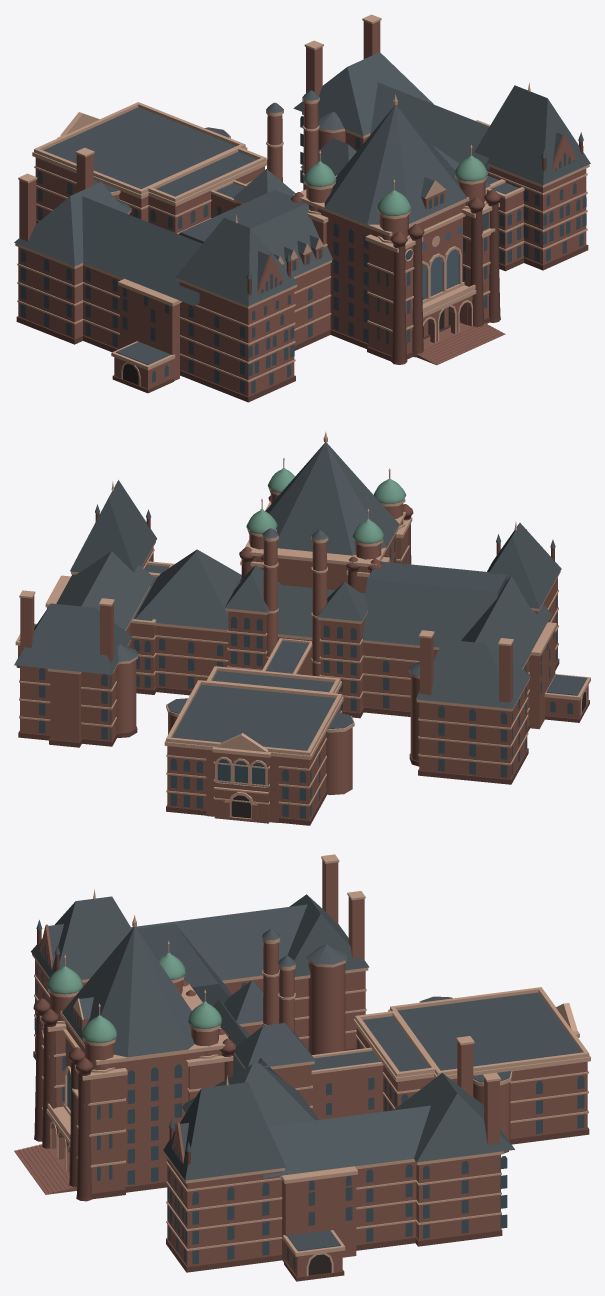
File: ontario-legislative-building-far.glb
3 renders of one model, top to bottom at view 1: azimuth 30°, elevation 25°; view 2: azimuth 150°, elevation 25°; view 3: azimuth 270°, elevation 25°, orthographic. The views are drawn at different scales.
Visible parts, largest first — view 1: ontario-legislative-building-0-roof, ontario-legislative-building-0-stone, ontario-legislative-building-0-trim, ontario-legislative-building-0-glass, ontario-legislative-building-0-stoneDark, ontario-legislative-building-0-copper, ontario-legislative-building-0-glow; view 2: ontario-legislative-building-0-roof, ontario-legislative-building-0-stone, ontario-legislative-building-0-trim, ontario-legislative-building-0-glass, ontario-legislative-building-0-stoneDark, ontario-legislative-building-0-copper; view 3: ontario-legislative-building-0-roof, ontario-legislative-building-0-stone, ontario-legislative-building-0-trim, ontario-legislative-building-0-stoneDark, ontario-legislative-building-0-glass, ontario-legislative-building-0-copper.
Boxes of the visible parts, x1,y1,x2,y2 form: ontario-legislative-building-0-roof: [14, 52, 590, 364]; ontario-legislative-building-0-stone: [18, 21, 586, 396]; ontario-legislative-building-0-trim: [15, 14, 589, 386]; ontario-legislative-building-0-glass: [21, 116, 586, 393]; ontario-legislative-building-0-stoneDark: [16, 141, 588, 402]; ontario-legislative-building-0-copper: [304, 155, 487, 215]; ontario-legislative-building-0-glow: [422, 226, 462, 299]; ontario-legislative-building-0-roof: [14, 442, 587, 750]; ontario-legislative-building-0-stone: [18, 493, 588, 823]; ontario-legislative-building-0-trim: [15, 431, 590, 819]; ontario-legislative-building-0-glass: [39, 539, 572, 818]; ontario-legislative-building-0-stoneDark: [16, 496, 589, 825]; ontario-legislative-building-0-copper: [246, 468, 406, 543]; ontario-legislative-building-0-roof: [31, 894, 581, 1251]; ontario-legislative-building-0-stone: [14, 860, 587, 1276]; ontario-legislative-building-0-trim: [32, 854, 590, 1275]; ontario-legislative-building-0-stoneDark: [33, 929, 589, 1281]; ontario-legislative-building-0-glass: [34, 945, 584, 1269]; ontario-legislative-building-0-copper: [47, 952, 221, 1042].
Bounding box in the file's own units: 151 × 63 × 135.
